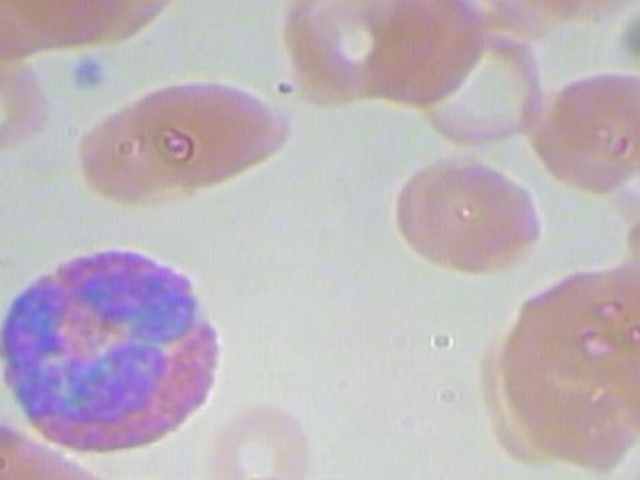Platelets: (58, 50, 112, 95)
RBC: (123, 68, 288, 197), (64, 98, 228, 226), (260, 0, 447, 106), (399, 12, 542, 147), (411, 148, 549, 277), (502, 262, 640, 391), (530, 68, 640, 197), (200, 393, 340, 480), (390, 145, 482, 272), (0, 416, 122, 480), (0, 45, 57, 175), (0, 0, 130, 46), (434, 0, 577, 39), (519, 0, 640, 39), (611, 235, 640, 370), (614, 325, 640, 466)
WBC: (0, 235, 241, 460)
